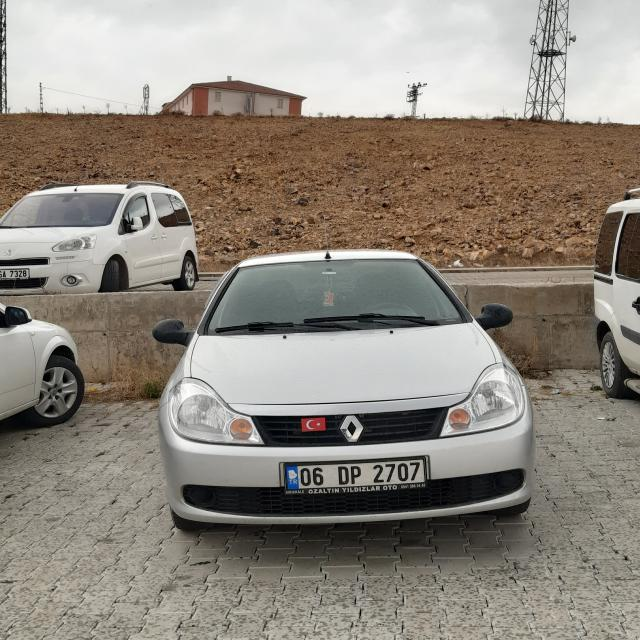license_plate: (283, 458, 429, 490)
